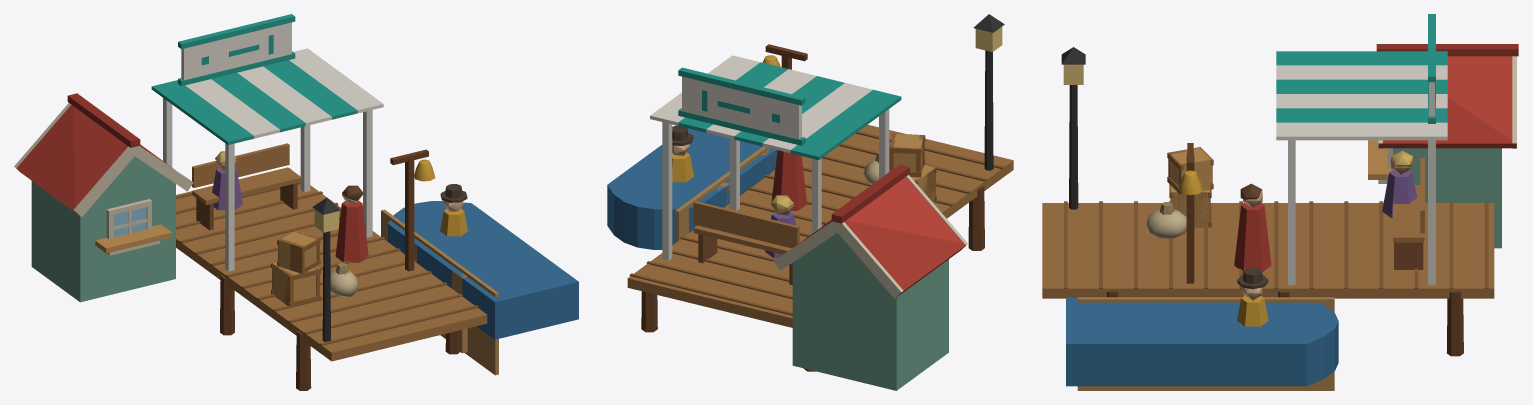
File: ferry_landing.glb
The picture shows the model from 3 angles, left to right: view 1: azimuth 30°, elevation 25°; view 2: azimuth 150°, elevation 25°; view 3: azimuth 270°, elevation 25°; orthographic projection. The views are drawn at different scales.
Visible parts, largest first — view 1: town-ferry_landing; view 2: town-ferry_landing; view 3: town-ferry_landing.
Boxes of the visible parts, <box> form: town-ferry_landing: <box>14,14,578,390</box>; town-ferry_landing: <box>607,14,1013,390</box>; town-ferry_landing: <box>1042,14,1518,390</box>.
Bounding box in the file's own units: 6.09 × 4.08 × 6.11.
